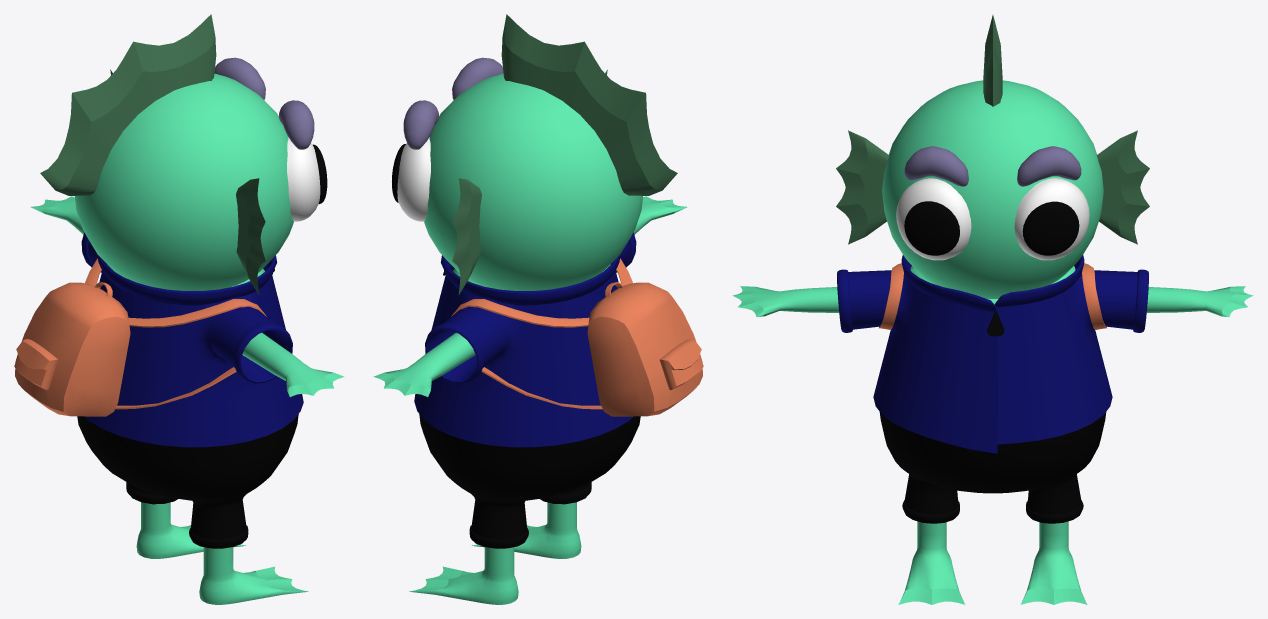
File: TEODORO.fbx
3 renders of one model, left to right at view 1: azimuth 30°, elevation 25°; view 2: azimuth 150°, elevation 25°; view 3: azimuth 270°, elevation 25°, orthographic. The views are drawn at different scales.
Parts seen in each view (by area): view 1: Cylinder.011, Cylinder.014, Cylinder.021, Cylinder.001, Cylinder.006, Cylinder.020, Cylinder.018, Cylinder.019, Cylinder.007, Cylinder.012, Cylinder.009, Cylinder.010 (+1 smaller); view 2: Cylinder.011, Cylinder.014, Cylinder.021, Cylinder.001, Cylinder.006, Cylinder.019, Cylinder.017, Cylinder.020, Cylinder.008, Cylinder.013, Cylinder.010, Cylinder.009 (+1 smaller); view 3: Cylinder.014, Cylinder.011, Cylinder.001, Cylinder.007, Cylinder.008, Cylinder.019, Cylinder.020, Cylinder.012, Cylinder.013, Cylinder.017, Cylinder.018, Cylinder.004 (+5 smaller).
Part boxes in pixels (left/top/right/bottom): Cylinder.011: left=75, top=73, right=293, bottom=290; Cylinder.014: left=81, top=232, right=303, bottom=447; Cylinder.021: left=14, top=258, right=266, bottom=416; Cylinder.001: left=77, top=414, right=298, bottom=548; Cylinder.006: left=40, top=14, right=216, bottom=195; Cylinder.020: left=199, top=547, right=308, bottom=604; Cylinder.018: left=242, top=332, right=344, bottom=396; Cylinder.019: left=136, top=502, right=245, bottom=558; Cylinder.007: left=236, top=178, right=265, bottom=294; Cylinder.012: left=287, top=137, right=320, bottom=221; Cylinder.009: left=279, top=100, right=314, bottom=149; Cylinder.010: left=214, top=57, right=265, bottom=99; Cylinder.011: left=424, top=73, right=642, bottom=290; Cylinder.014: left=414, top=232, right=636, bottom=447; Cylinder.021: left=451, top=258, right=703, bottom=416; Cylinder.001: left=419, top=414, right=640, bottom=548; Cylinder.006: left=501, top=14, right=677, bottom=195; Cylinder.019: left=409, top=547, right=518, bottom=604; Cylinder.017: left=373, top=332, right=475, bottom=396; Cylinder.020: left=472, top=502, right=581, bottom=558; Cylinder.008: left=452, top=178, right=481, bottom=294; Cylinder.013: left=397, top=137, right=430, bottom=221; Cylinder.010: left=403, top=100, right=438, bottom=149; Cylinder.009: left=452, top=57, right=503, bottom=99; Cylinder.014: left=837, top=255, right=1148, bottom=453; Cylinder.011: left=882, top=80, right=1103, bottom=298; Cylinder.001: left=879, top=412, right=1106, bottom=523; Cylinder.007: left=836, top=130, right=889, bottom=244; Cylinder.008: left=1096, top=130, right=1149, bottom=244; Cylinder.019: left=1020, top=521, right=1087, bottom=604; Cylinder.020: left=898, top=521, right=965, bottom=604; Cylinder.012: left=896, top=178, right=971, bottom=260; Cylinder.013: left=1014, top=178, right=1089, bottom=260; Cylinder.017: left=1146, top=286, right=1253, bottom=316; Cylinder.018: left=732, top=286, right=839, bottom=316; Cylinder.004: left=1022, top=201, right=1079, bottom=255.
Bounding box in the file's own units: 172 × 337 × 296.
